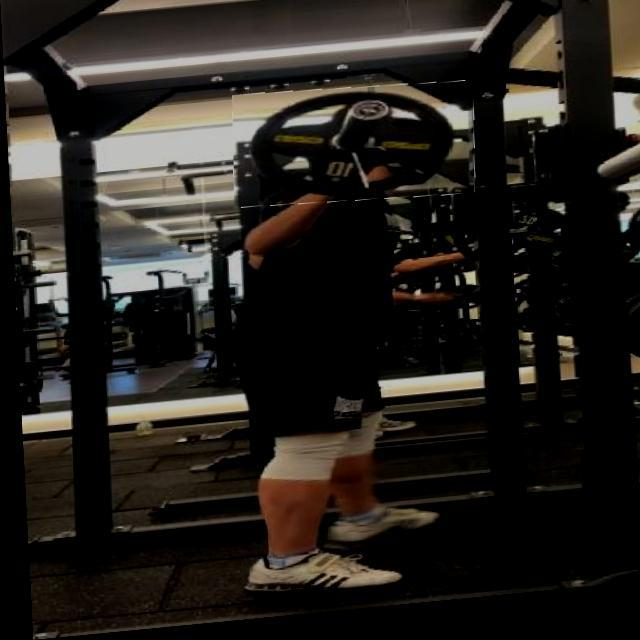barbell: (230, 85, 476, 219)
